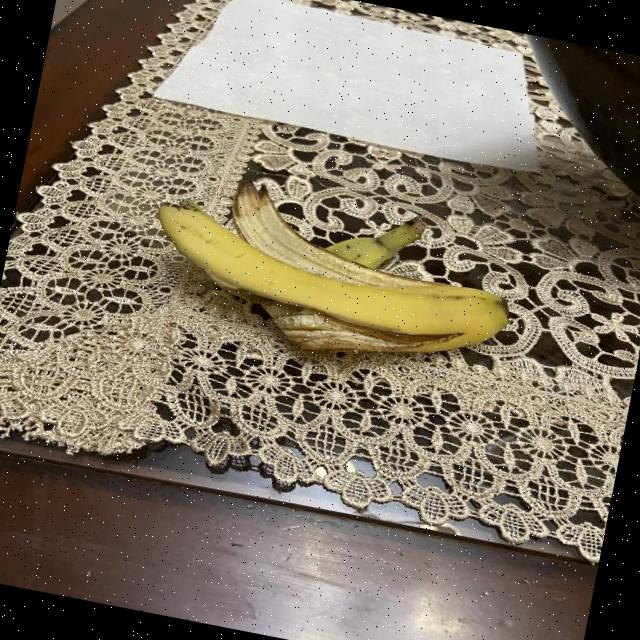banana-peel: (137, 162, 526, 386)
